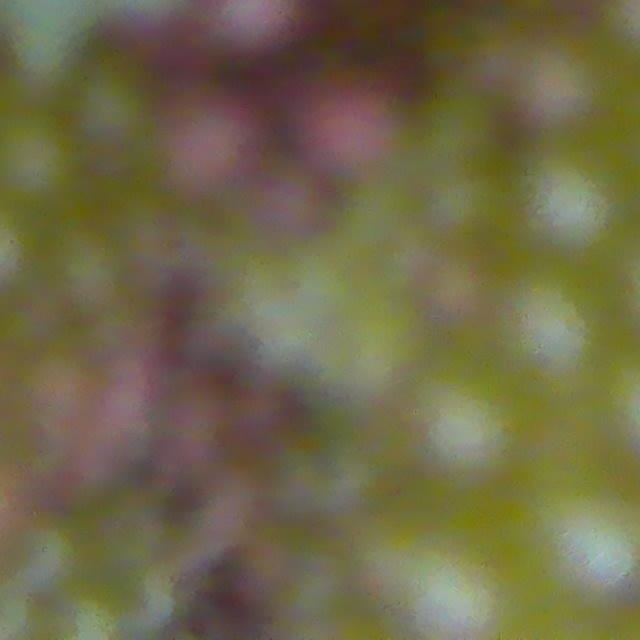SeaGrape: (493, 259, 611, 381), (528, 480, 640, 605), (414, 365, 529, 483), (520, 141, 627, 255), (279, 90, 384, 177), (518, 38, 613, 131), (0, 110, 84, 209), (73, 63, 158, 150)
